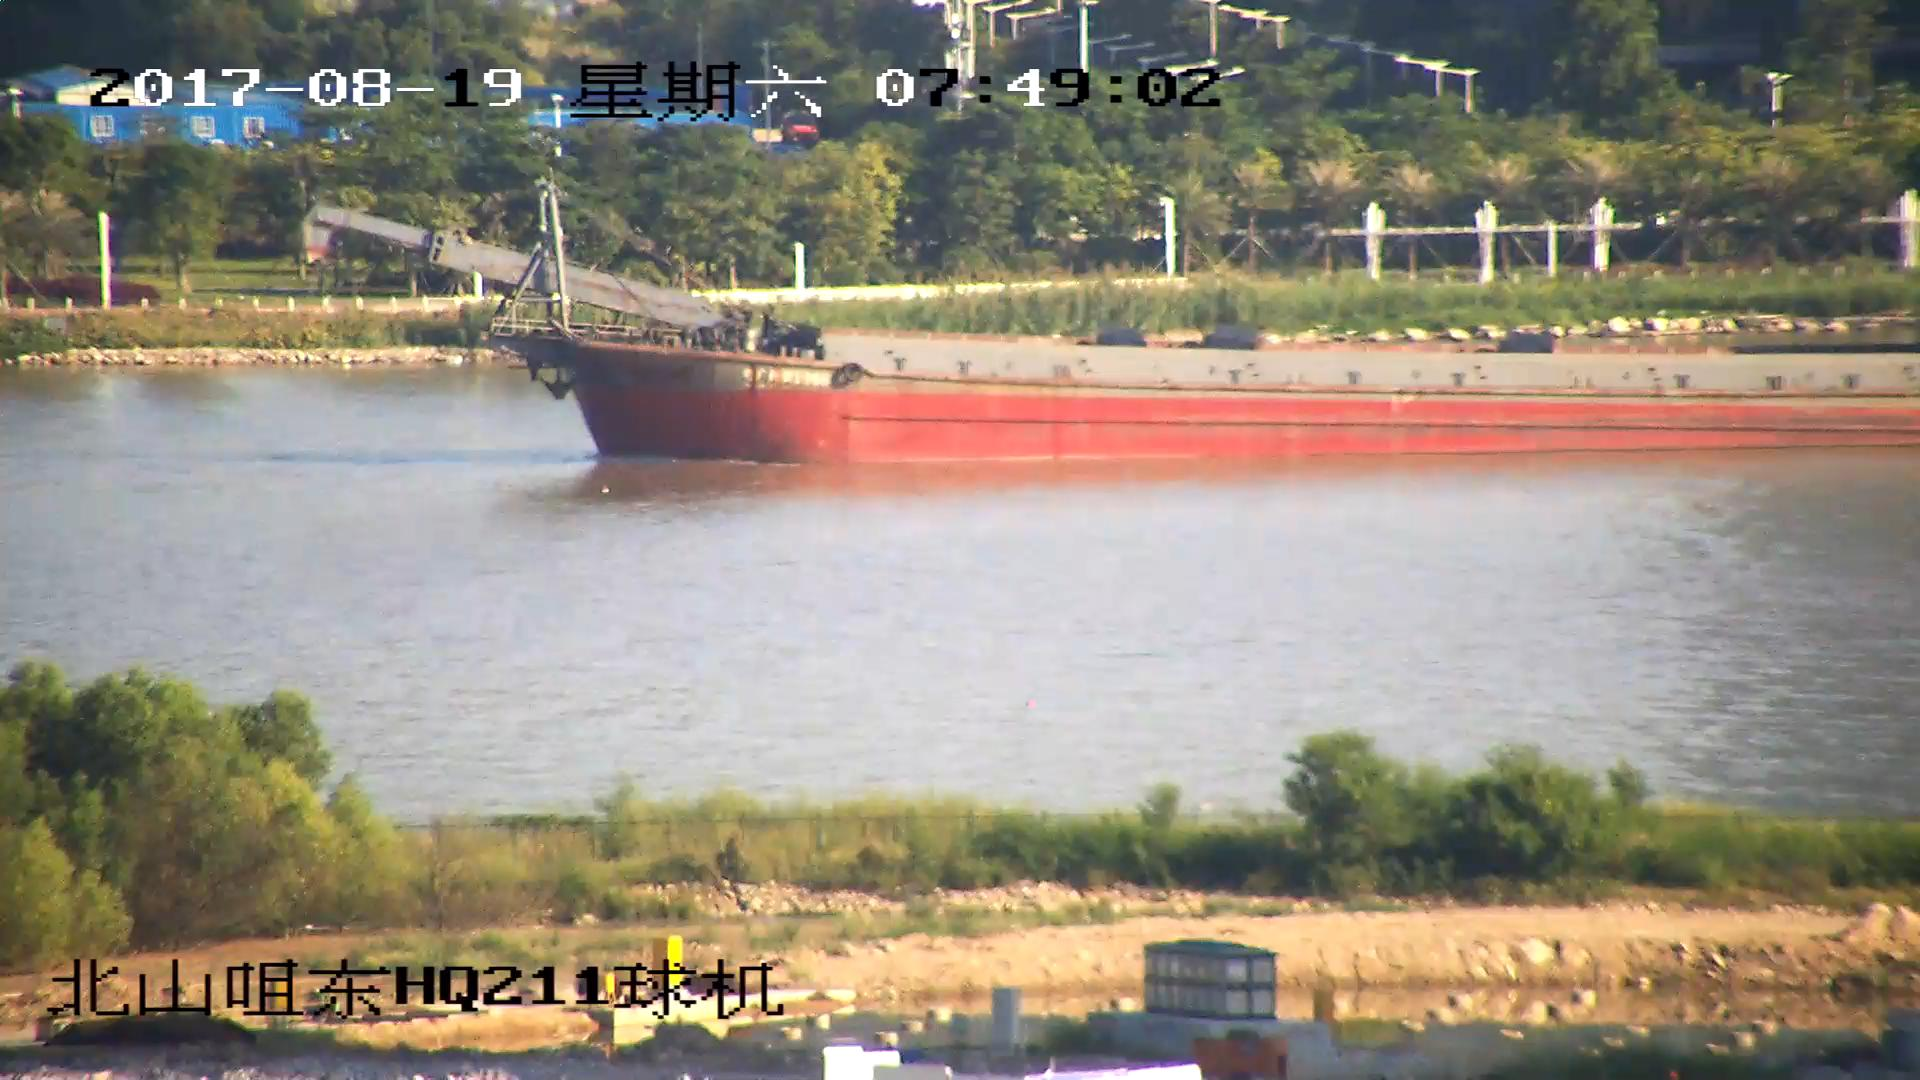bulk cargo carrier: (311, 190, 1920, 469)
